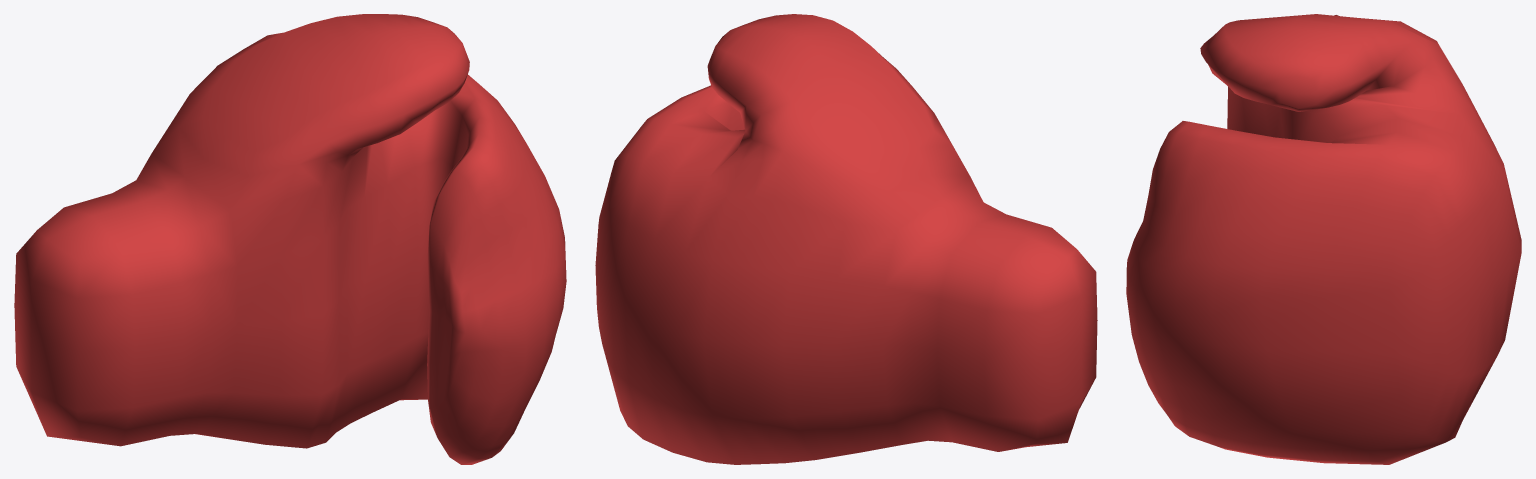
Rendered from FIST 222.fbx.
The picture shows the model from 3 angles, left to right: view 1: azimuth 30°, elevation 25°; view 2: azimuth 150°, elevation 25°; view 3: azimuth 270°, elevation 25°; orthographic projection. The views are drawn at different scales.
Parts seen in each view (by area): view 1: pCube3; view 2: pCube3; view 3: pCube3.
Boxes of the visible parts, x1,y1,x2,y2 form: pCube3: (14,14,566,464); pCube3: (595,14,1097,464); pCube3: (1126,14,1521,464).
Bounding box in the file's own units: 6.63 × 5.49 × 4.83.
